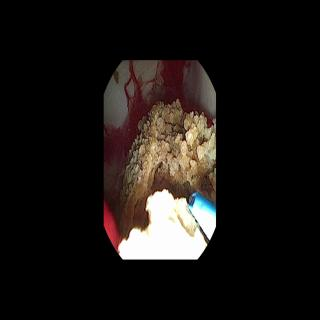fiber: (189, 193, 215, 236)
stone: (117, 99, 216, 238)
tissue: (106, 63, 214, 243)
